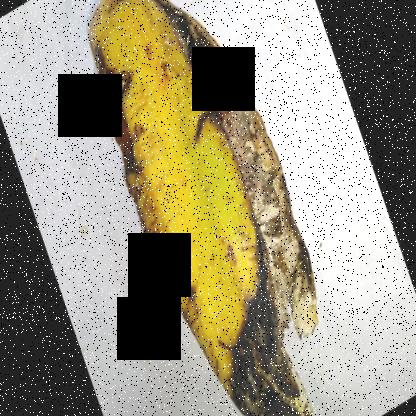rotten: (78, 1, 339, 415)
